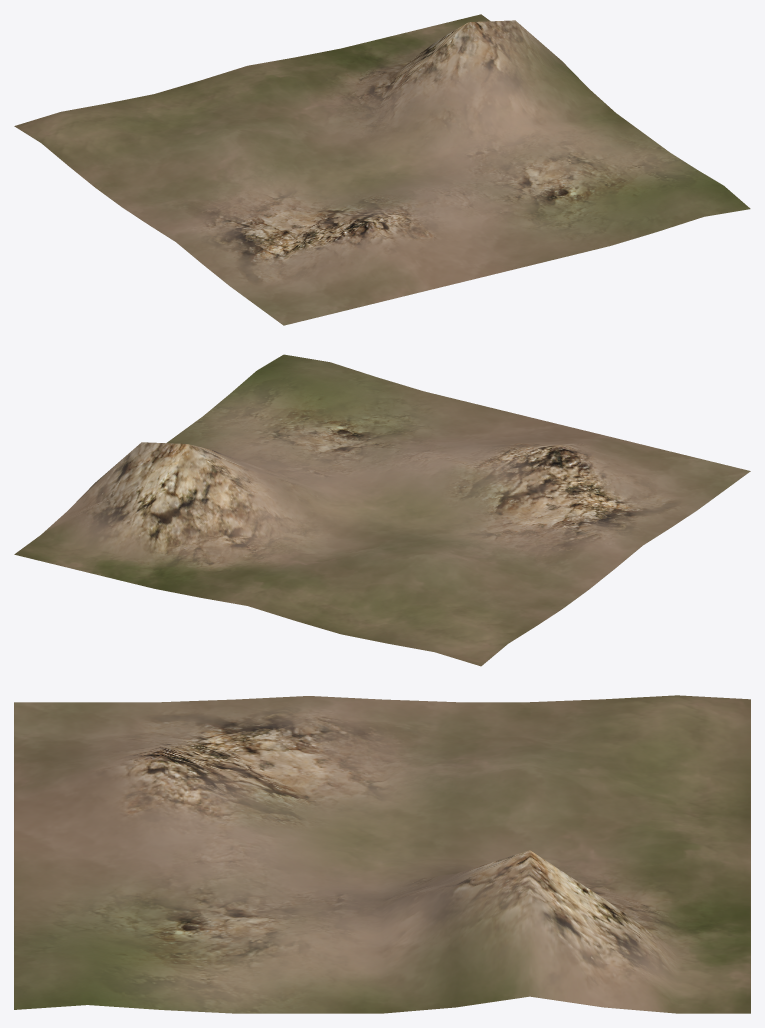
File: stage.fbx
The picture shows the model from 3 angles, top to bottom: view 1: azimuth 30°, elevation 25°; view 2: azimuth 150°, elevation 25°; view 3: azimuth 270°, elevation 25°; orthographic projection. The views are drawn at different scales.
Parts seen in each view (by area): view 1: pPlane1; view 2: pPlane1; view 3: pPlane1.
Part boxes in pixels (x1,y1,x2,y2): pPlane1: (14, 14, 750, 325); pPlane1: (14, 354, 750, 666); pPlane1: (14, 695, 750, 1013).
Size of the model in its own units: 100 by 15.15 by 100.
